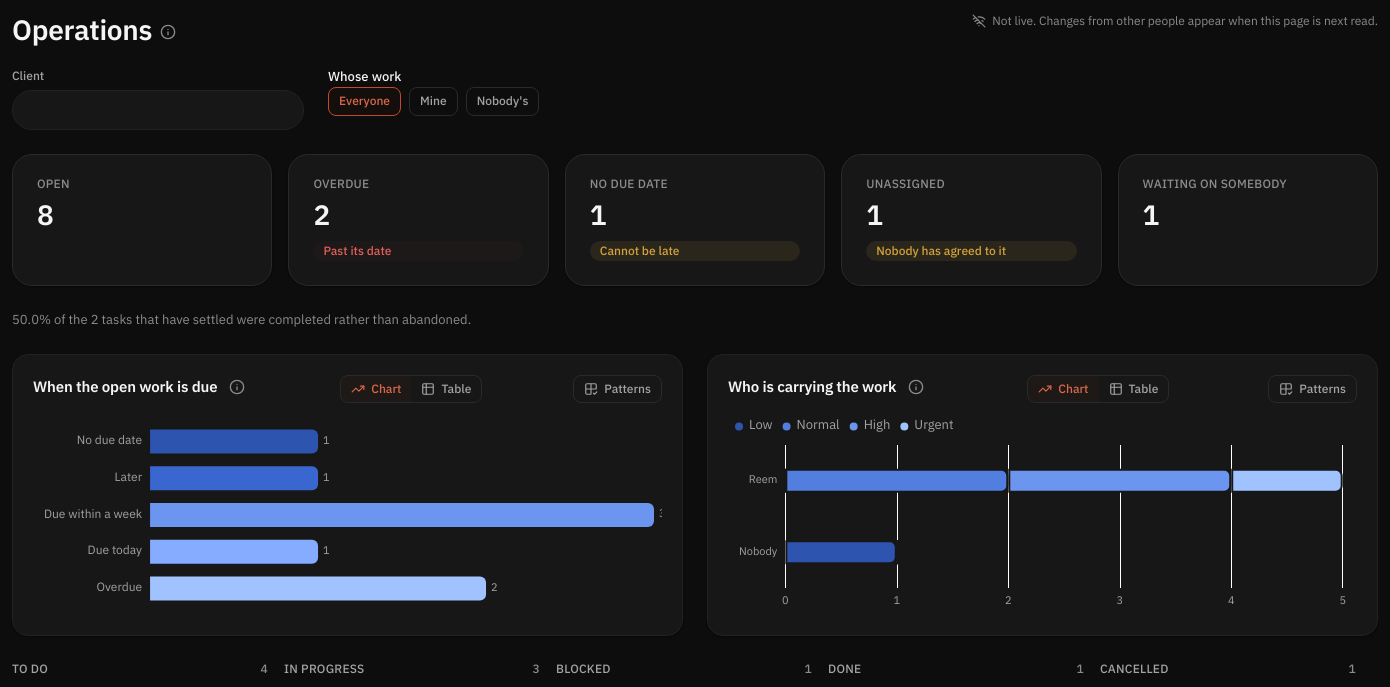
Scenario: the operations board › counts the unassigned pile as a row rather than leaving it out
The image size is (1390, 687).
What coordinates should you click on to do the following:
click the button "Table" in the row of "Who is carrying the work"
I would click on:
 (1133, 389)
Its box is [1098,376,1168,402].
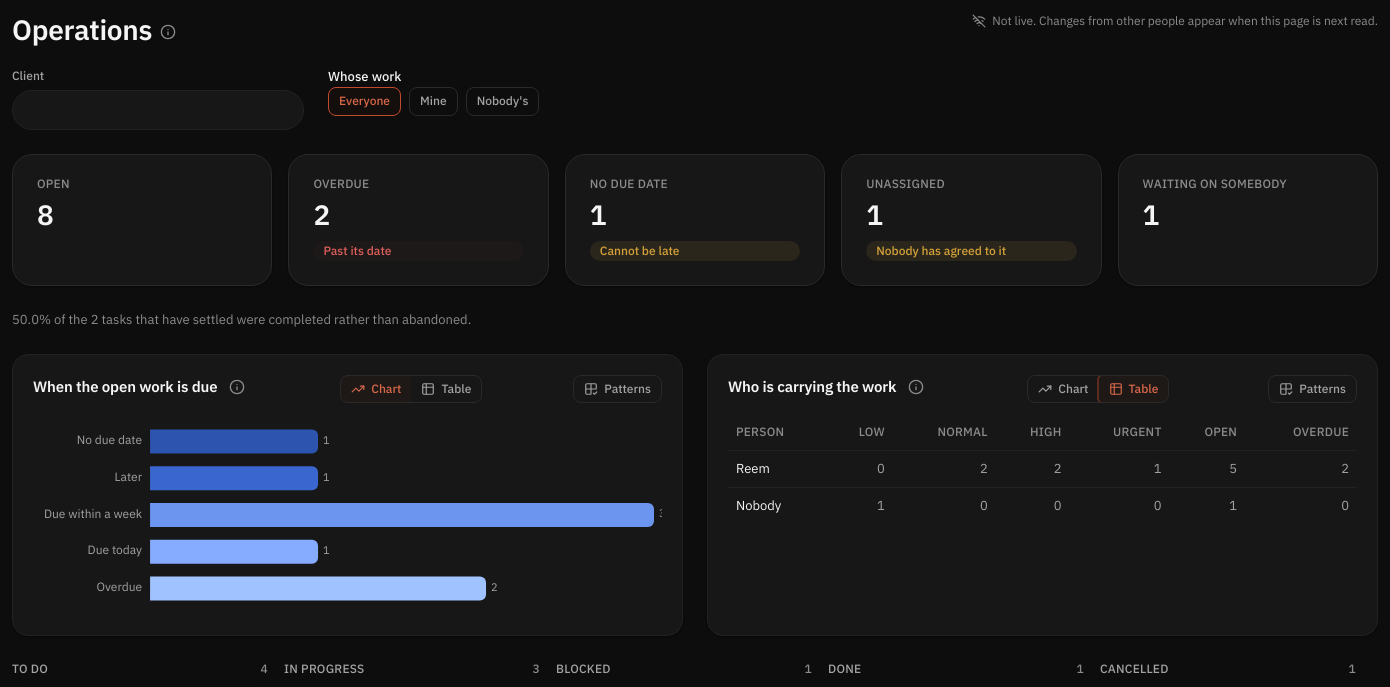
Check: the row "Nobody 1 0 0 0 1 0" is shown, box [728,488,1357,524]
